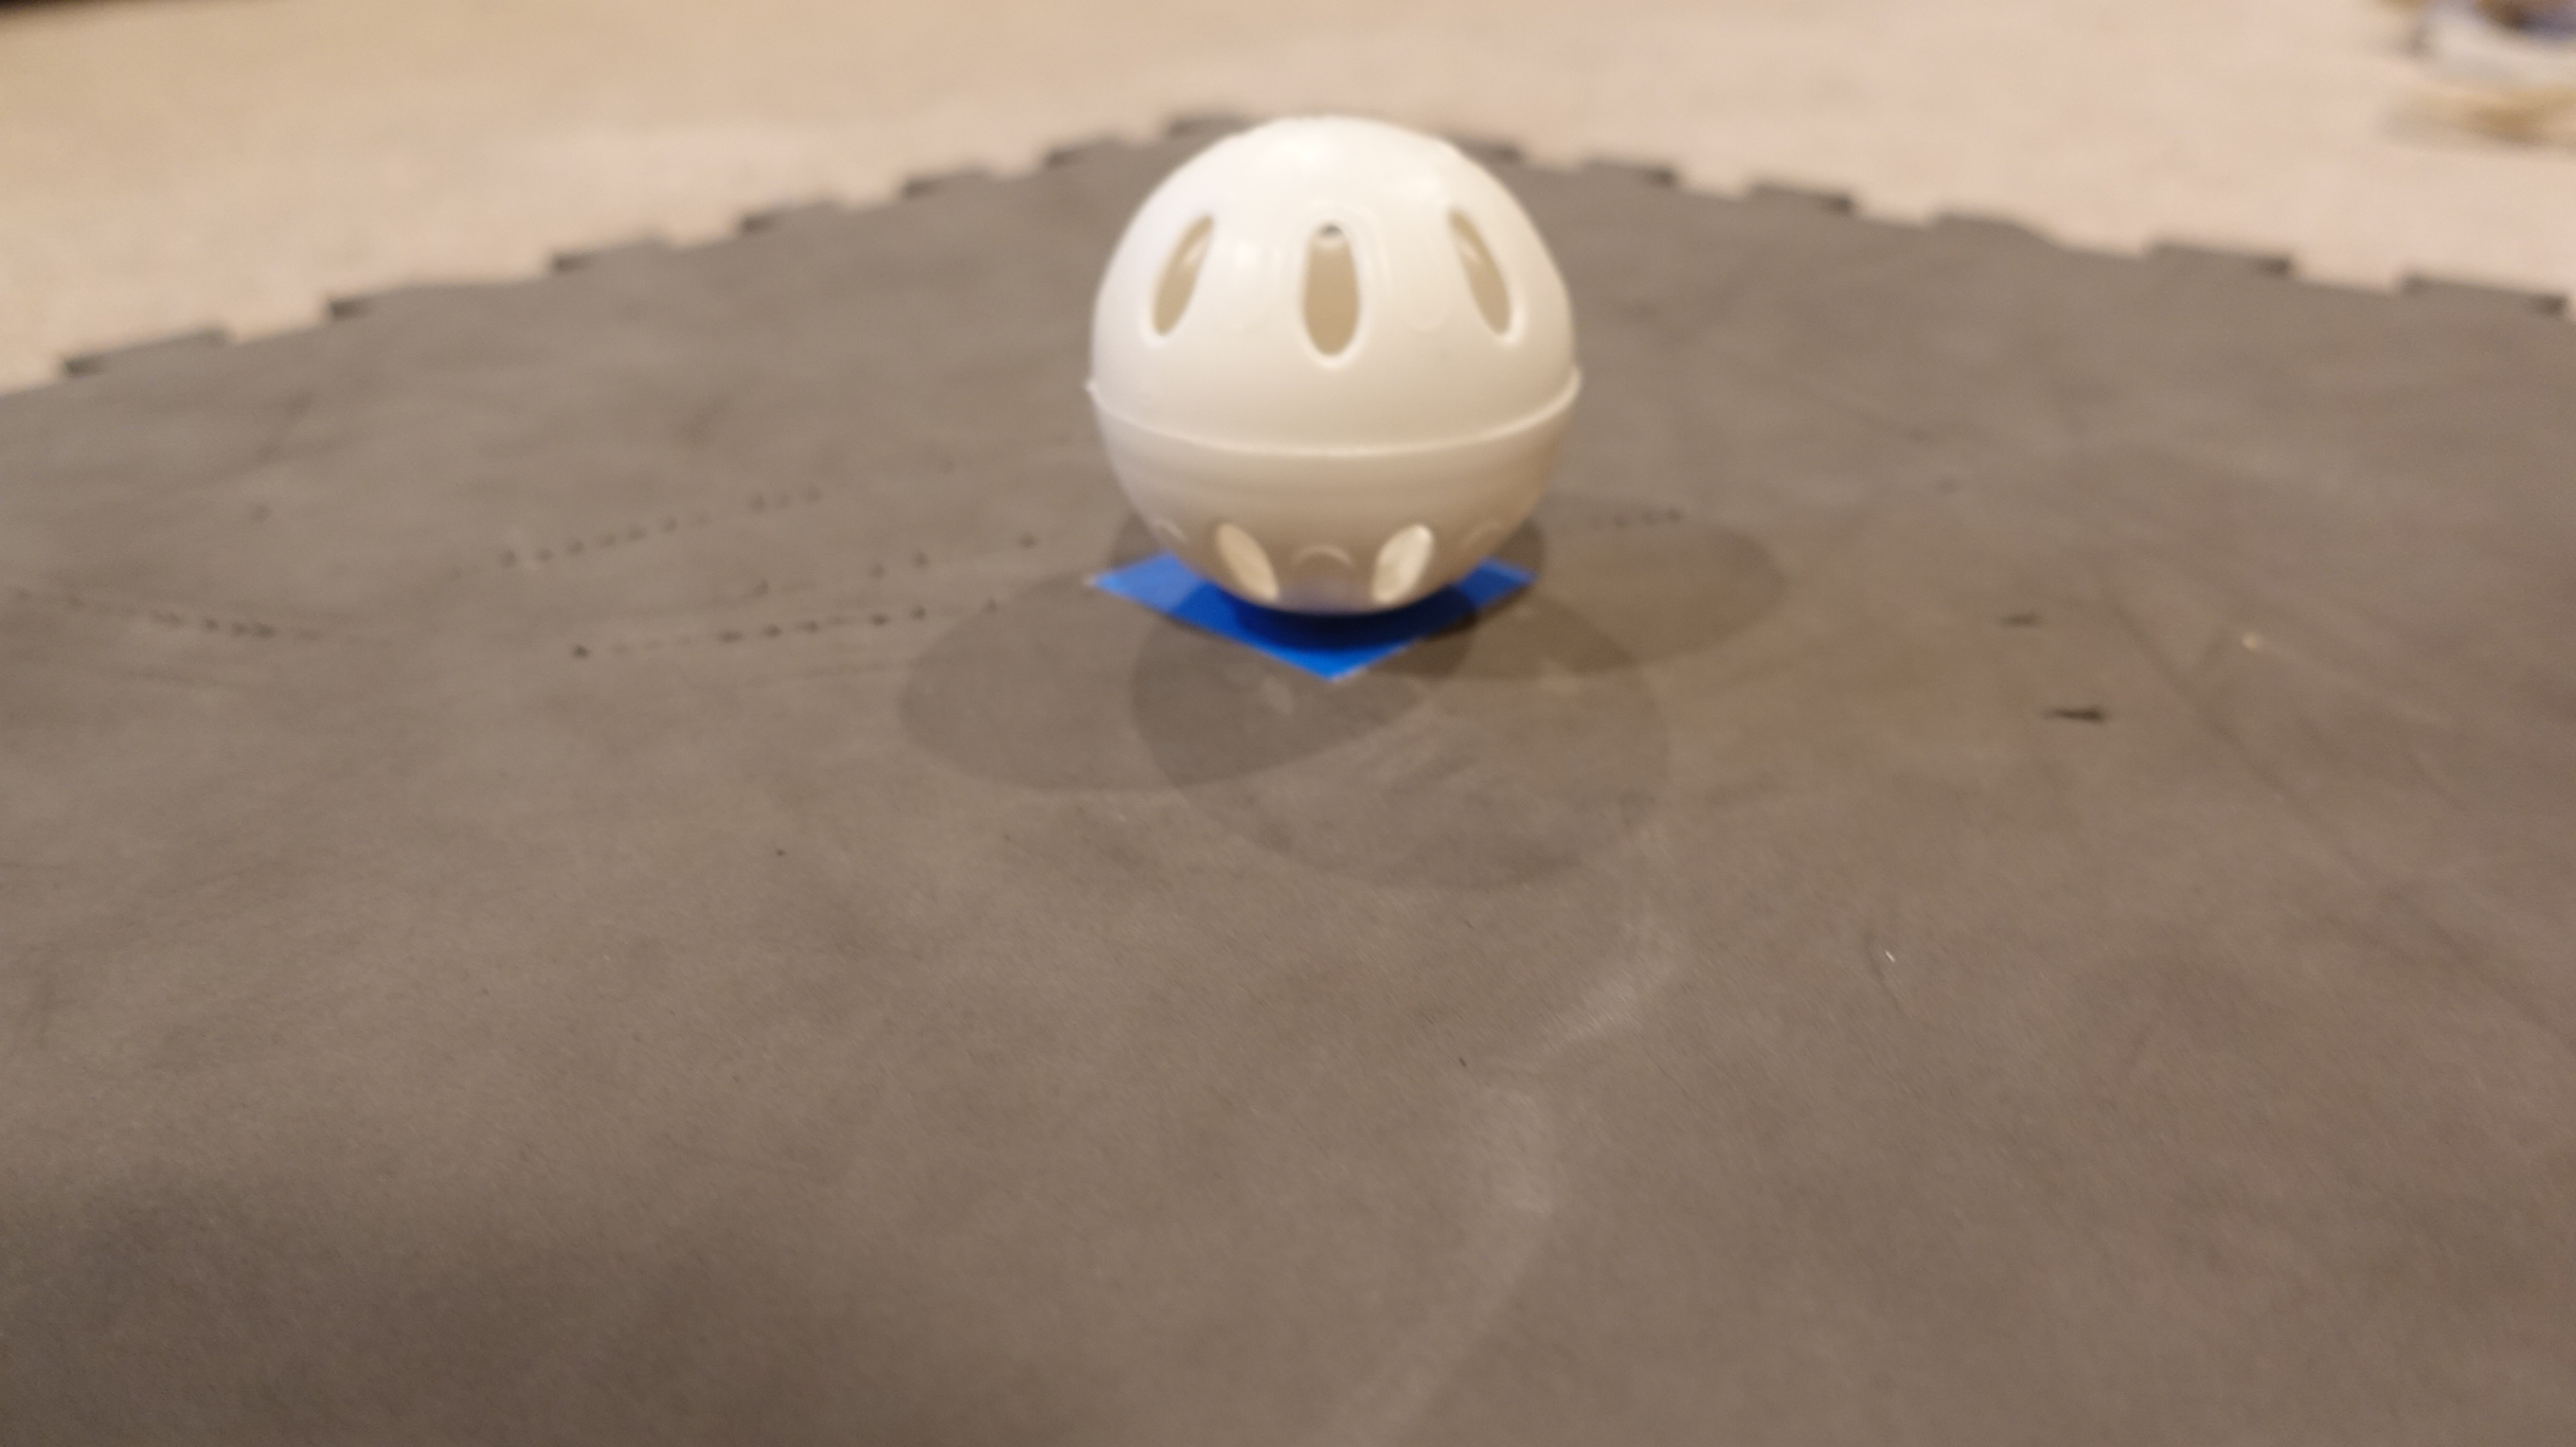silver: (1070, 120, 1601, 630)
